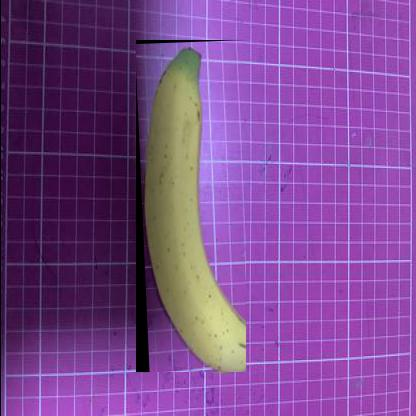bananarotation: (134, 40, 245, 373)
